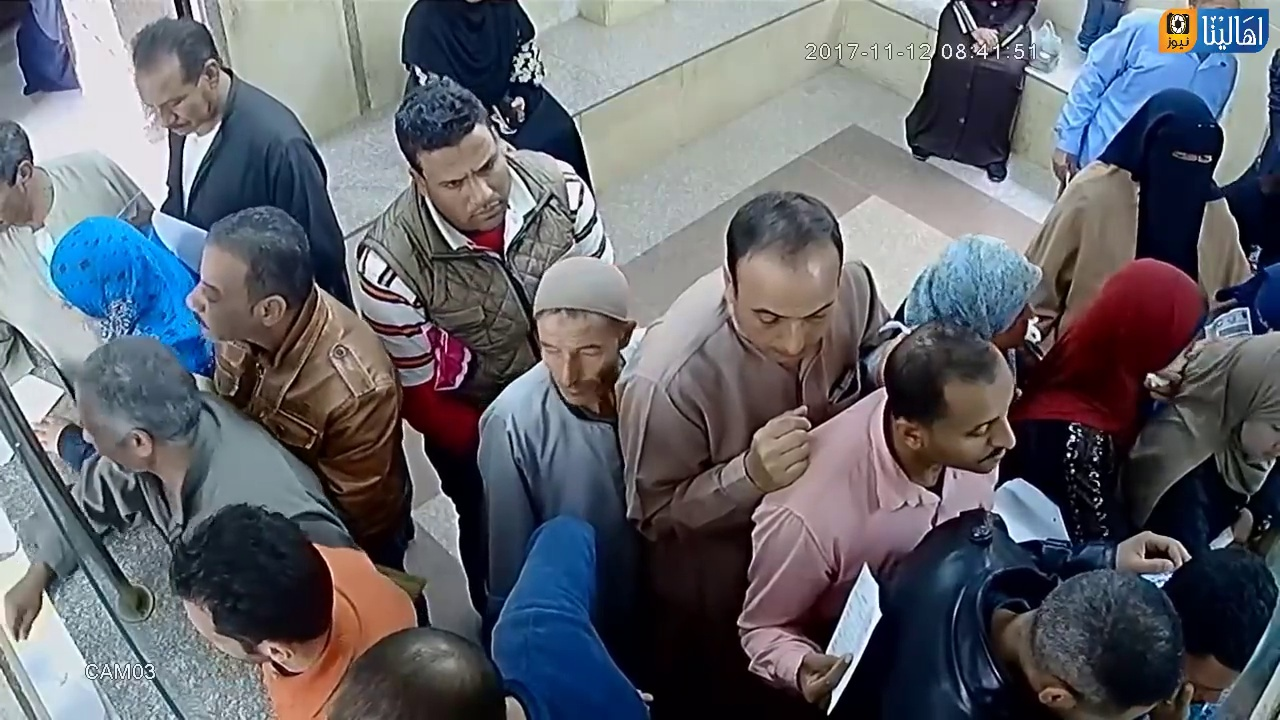face: (729, 270, 842, 362), (421, 140, 520, 226), (532, 310, 614, 408), (947, 391, 1027, 479), (186, 249, 249, 356), (130, 52, 201, 140)
